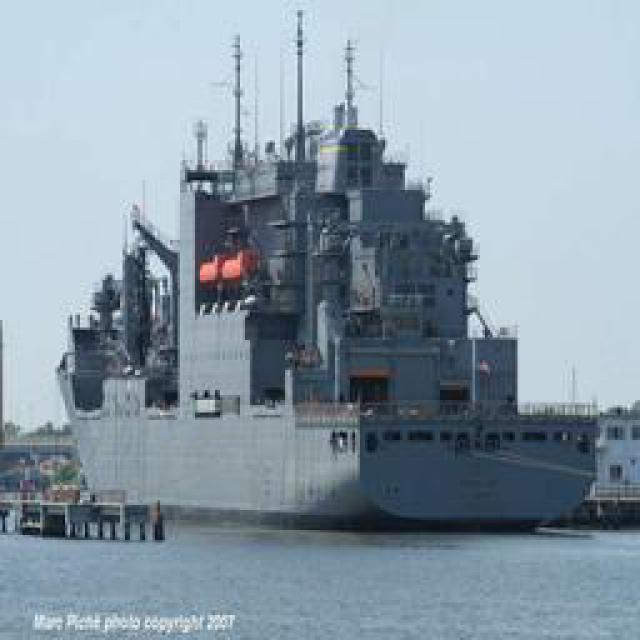Ship: (51, 25, 606, 533)
